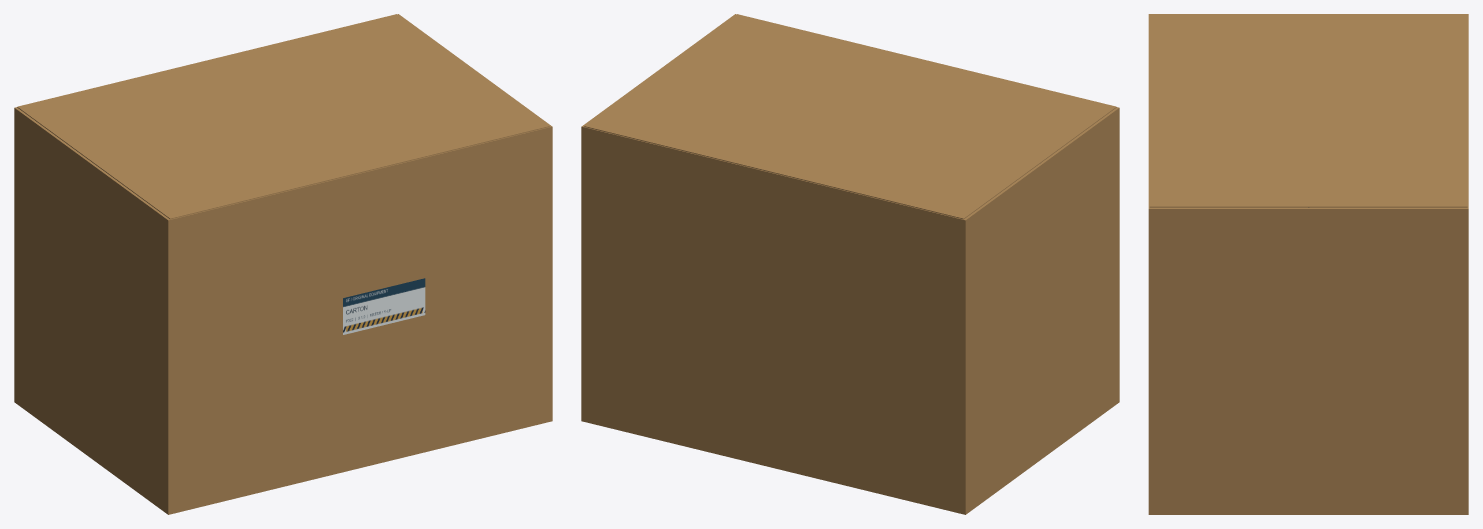
File: carton.glb
3 views of the same model, side by side, from view 1: azimuth 30°, elevation 25°; view 2: azimuth 150°, elevation 25°; view 3: azimuth 270°, elevation 25° (orthographic). The views are drawn at different scales.
Visible parts, largest first — view 1: CartonWallZ0.1685, CartonWallX-0.2435, FoldedUnsealedFlap0.0845, FoldedUnsealedFlap-0.0845, PackageLabel, CartonBottom, CartonWallX0.2435; view 2: CartonWallZ-0.1685, CartonWallX-0.2435, FoldedUnsealedFlap-0.0845, FoldedUnsealedFlap0.0845, CartonBottom, CartonWallX0.2435; view 3: CartonWallX0.2435, FoldedUnsealedFlap0.0845, FoldedUnsealedFlap-0.0845, CartonBottom, CartonWallZ-0.1685, CartonWallZ0.1685.
Boxes of the visible parts, x1,y1,x2,y2 form: CartonWallZ0.1685: [170, 127, 550, 511]; CartonWallX-0.2435: [14, 107, 170, 512]; FoldedUnsealedFlap0.0845: [94, 70, 549, 219]; FoldedUnsealedFlap-0.0845: [17, 14, 472, 162]; PackageLabel: [343, 278, 425, 334]; CartonBottom: [14, 400, 552, 514]; CartonWallX0.2435: [397, 14, 552, 419]; CartonWallZ-0.1685: [583, 127, 963, 511]; CartonWallX-0.2435: [963, 107, 1119, 512]; FoldedUnsealedFlap-0.0845: [584, 70, 1039, 219]; FoldedUnsealedFlap0.0845: [661, 14, 1116, 162]; CartonBottom: [581, 400, 1119, 514]; CartonWallX0.2435: [581, 14, 736, 419]; CartonWallX0.2435: [1148, 207, 1468, 512]; FoldedUnsealedFlap0.0845: [1149, 14, 1308, 207]; FoldedUnsealedFlap-0.0845: [1308, 14, 1467, 207]; CartonBottom: [1148, 512, 1468, 514]; CartonWallZ-0.1685: [1467, 15, 1468, 207]; CartonWallZ0.1685: [1148, 15, 1149, 207].
Size of the model in its own units: 0.49 by 0.36 by 0.3405.
4 materials, 1 textured.
